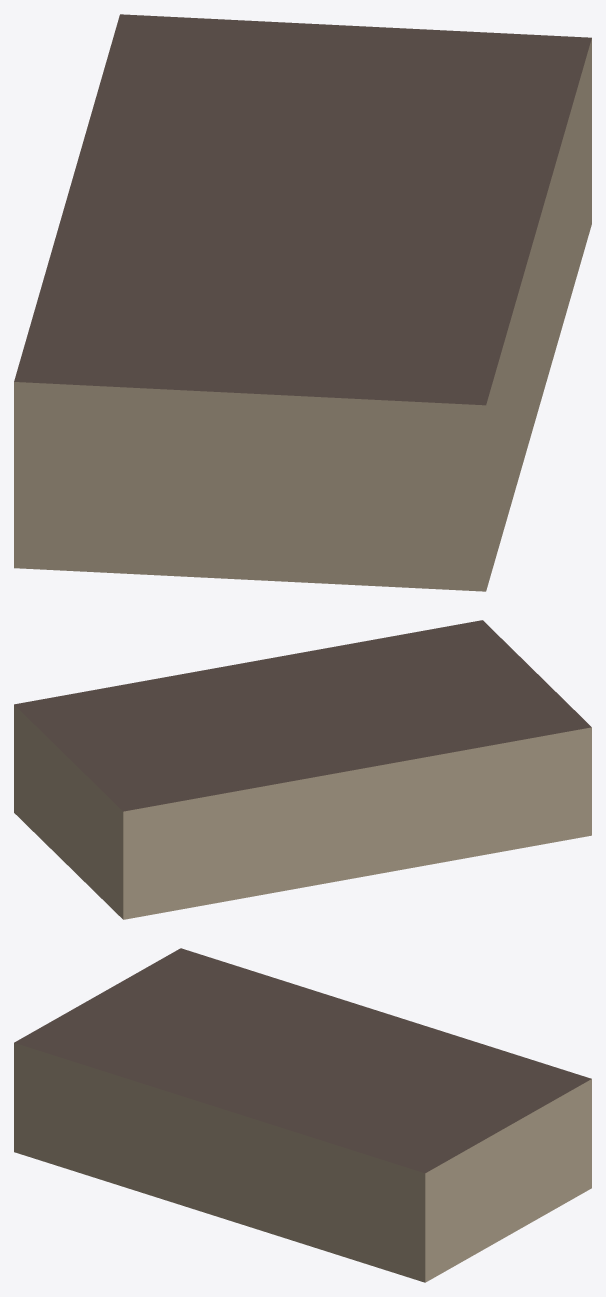
The picture shows the model from 3 angles, top to bottom: view 1: azimuth 30°, elevation 25°; view 2: azimuth 150°, elevation 25°; view 3: azimuth 270°, elevation 25°; orthographic projection. The views are drawn at different scales.
Visible parts, largest first — view 1: HP-w1287058620; view 2: HP-w1287058620; view 3: HP-w1287058620.
Part boxes in pixels (x1,y1,x2,y2): HP-w1287058620: (14, 14, 591, 591); HP-w1287058620: (14, 620, 591, 919); HP-w1287058620: (14, 948, 591, 1282).
Bounding box in the file's own units: 39.74 × 9 × 43.1.
